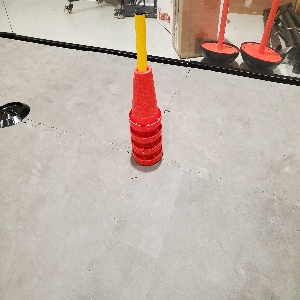Red_4: (127, 64, 163, 166)
